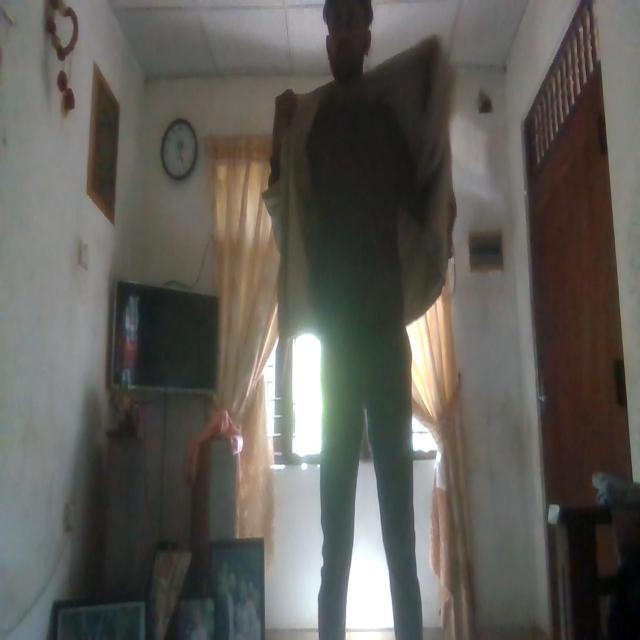Jacket_Wearer: (260, 85, 455, 308)
Person: (270, 0, 441, 639)
